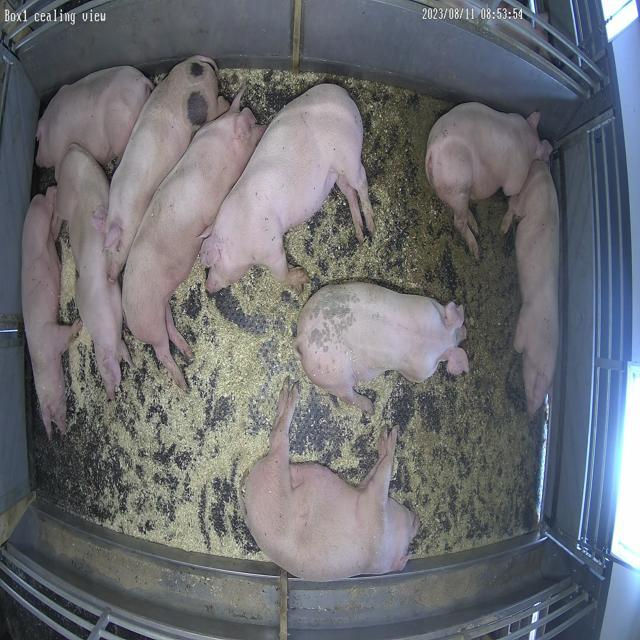Dirt: (338, 78, 543, 558)
Pig: (122, 90, 264, 390), (201, 83, 375, 292), (246, 383, 419, 582), (104, 55, 229, 280), (295, 283, 470, 414), (426, 102, 553, 256), (56, 145, 129, 400), (21, 187, 81, 438), (35, 65, 153, 172), (511, 160, 560, 414)
